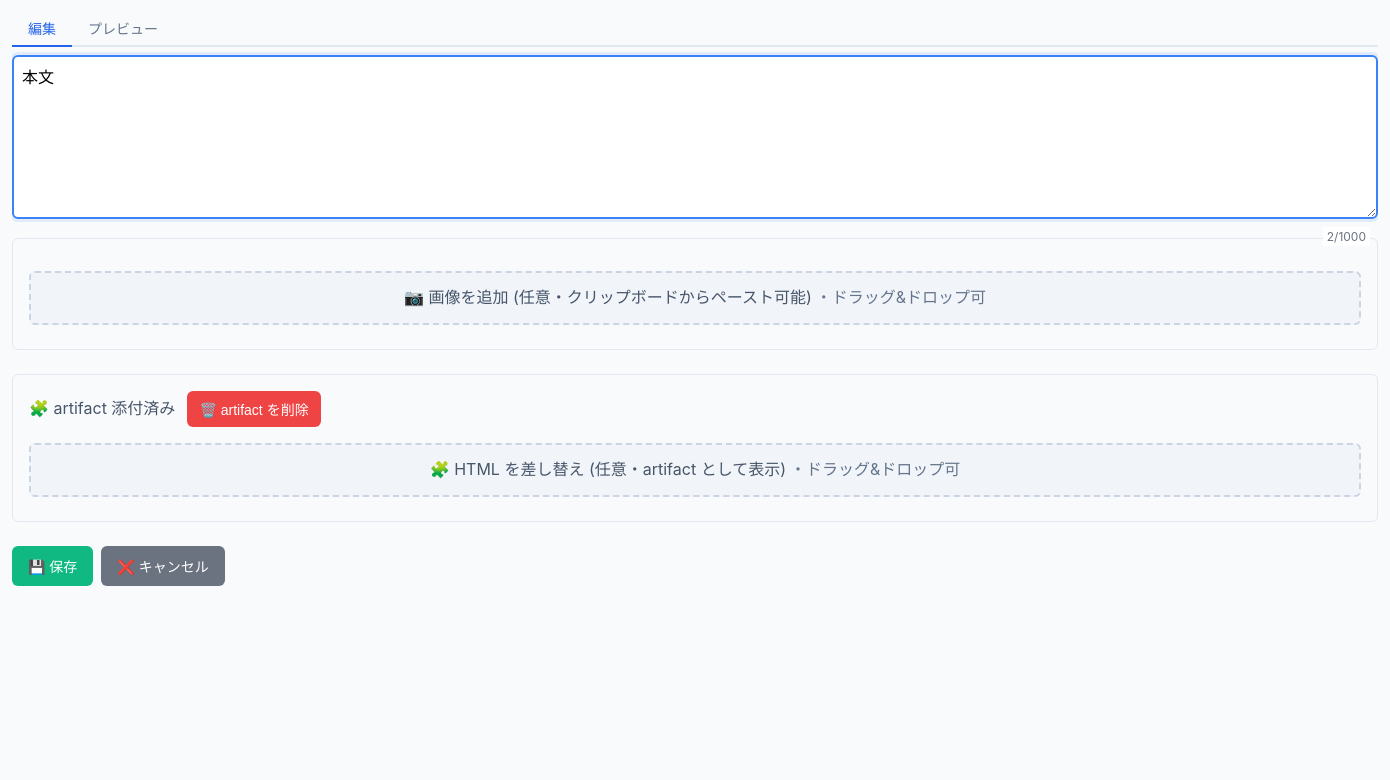
Test case: EditForm の artifact 操作 › 削除を指示している間はファイル選択欄を出さない
Click the button "🗑️ artifact を削除": x=254, y=409 [187,391,321,427]
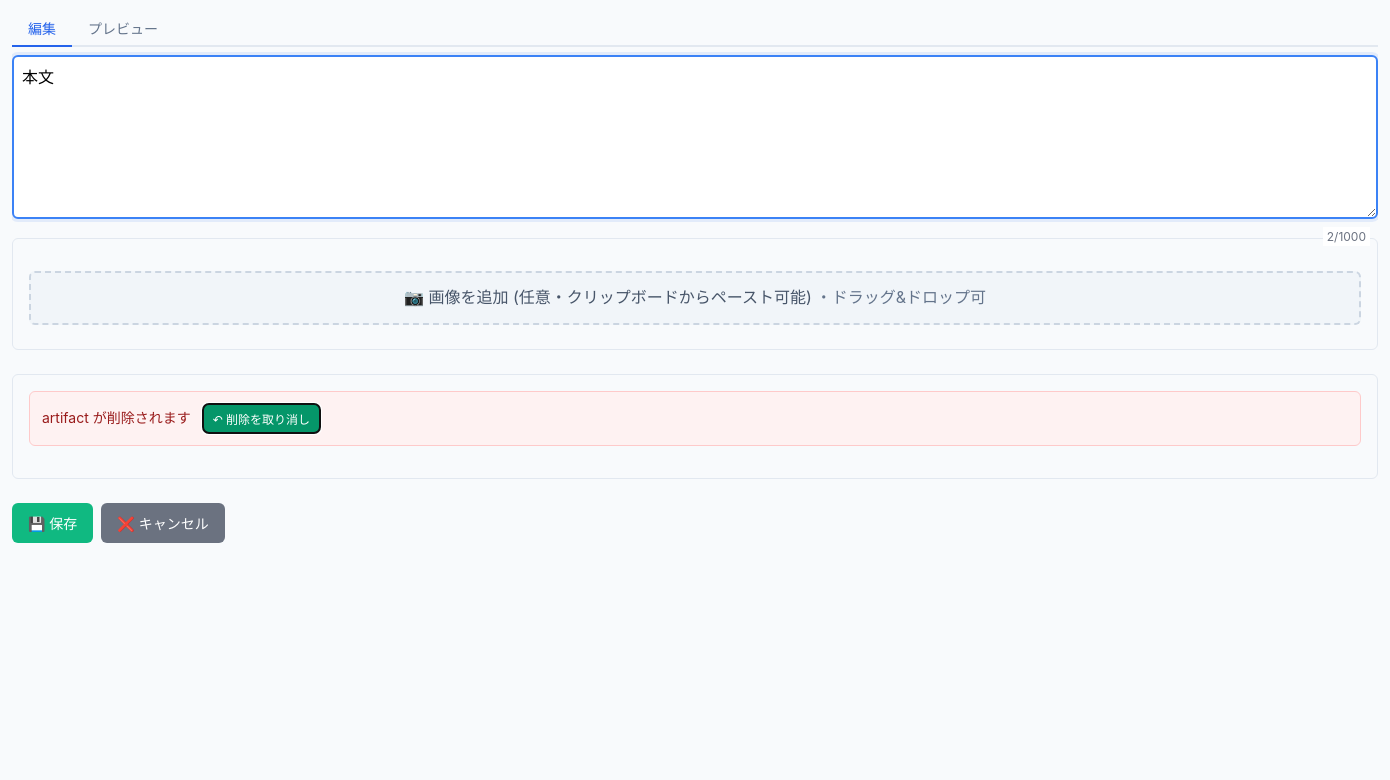
Result: the file field labelled "HTML を" is gone
